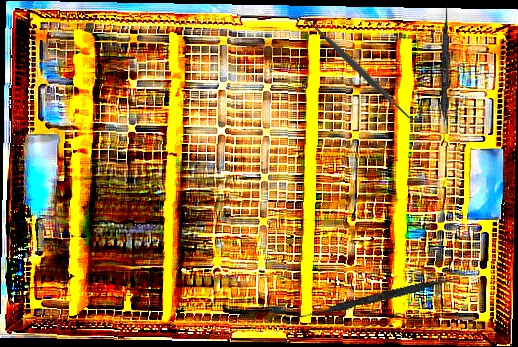Spatula Surgical: (297, 8, 422, 131), (292, 271, 460, 325), (441, 5, 449, 146)
